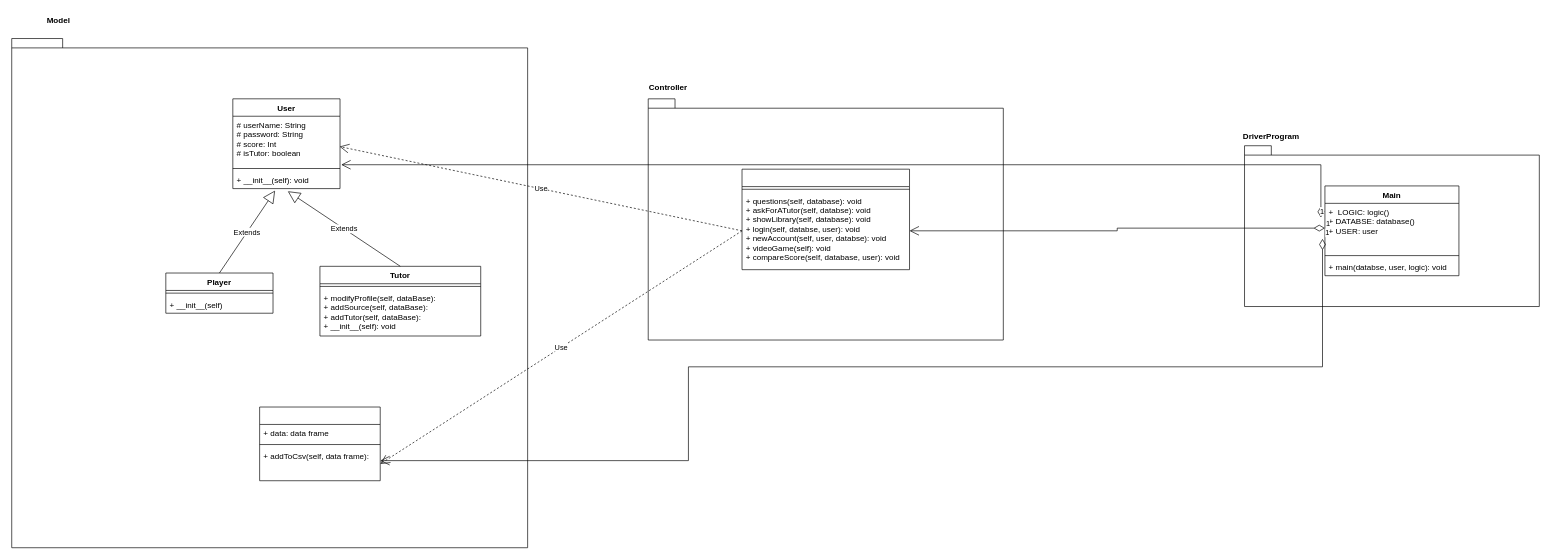
Image size: 1551x559. Some labels were removed from this diagram. Each missing label, with the box of its shape:
DataBase: (259, 406, 380, 481)
Logic: (741, 169, 910, 270)
